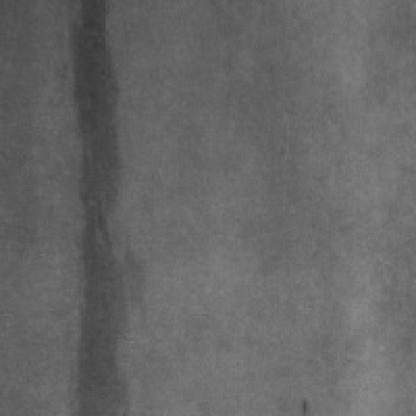inclusion: (63, 4, 133, 416)
